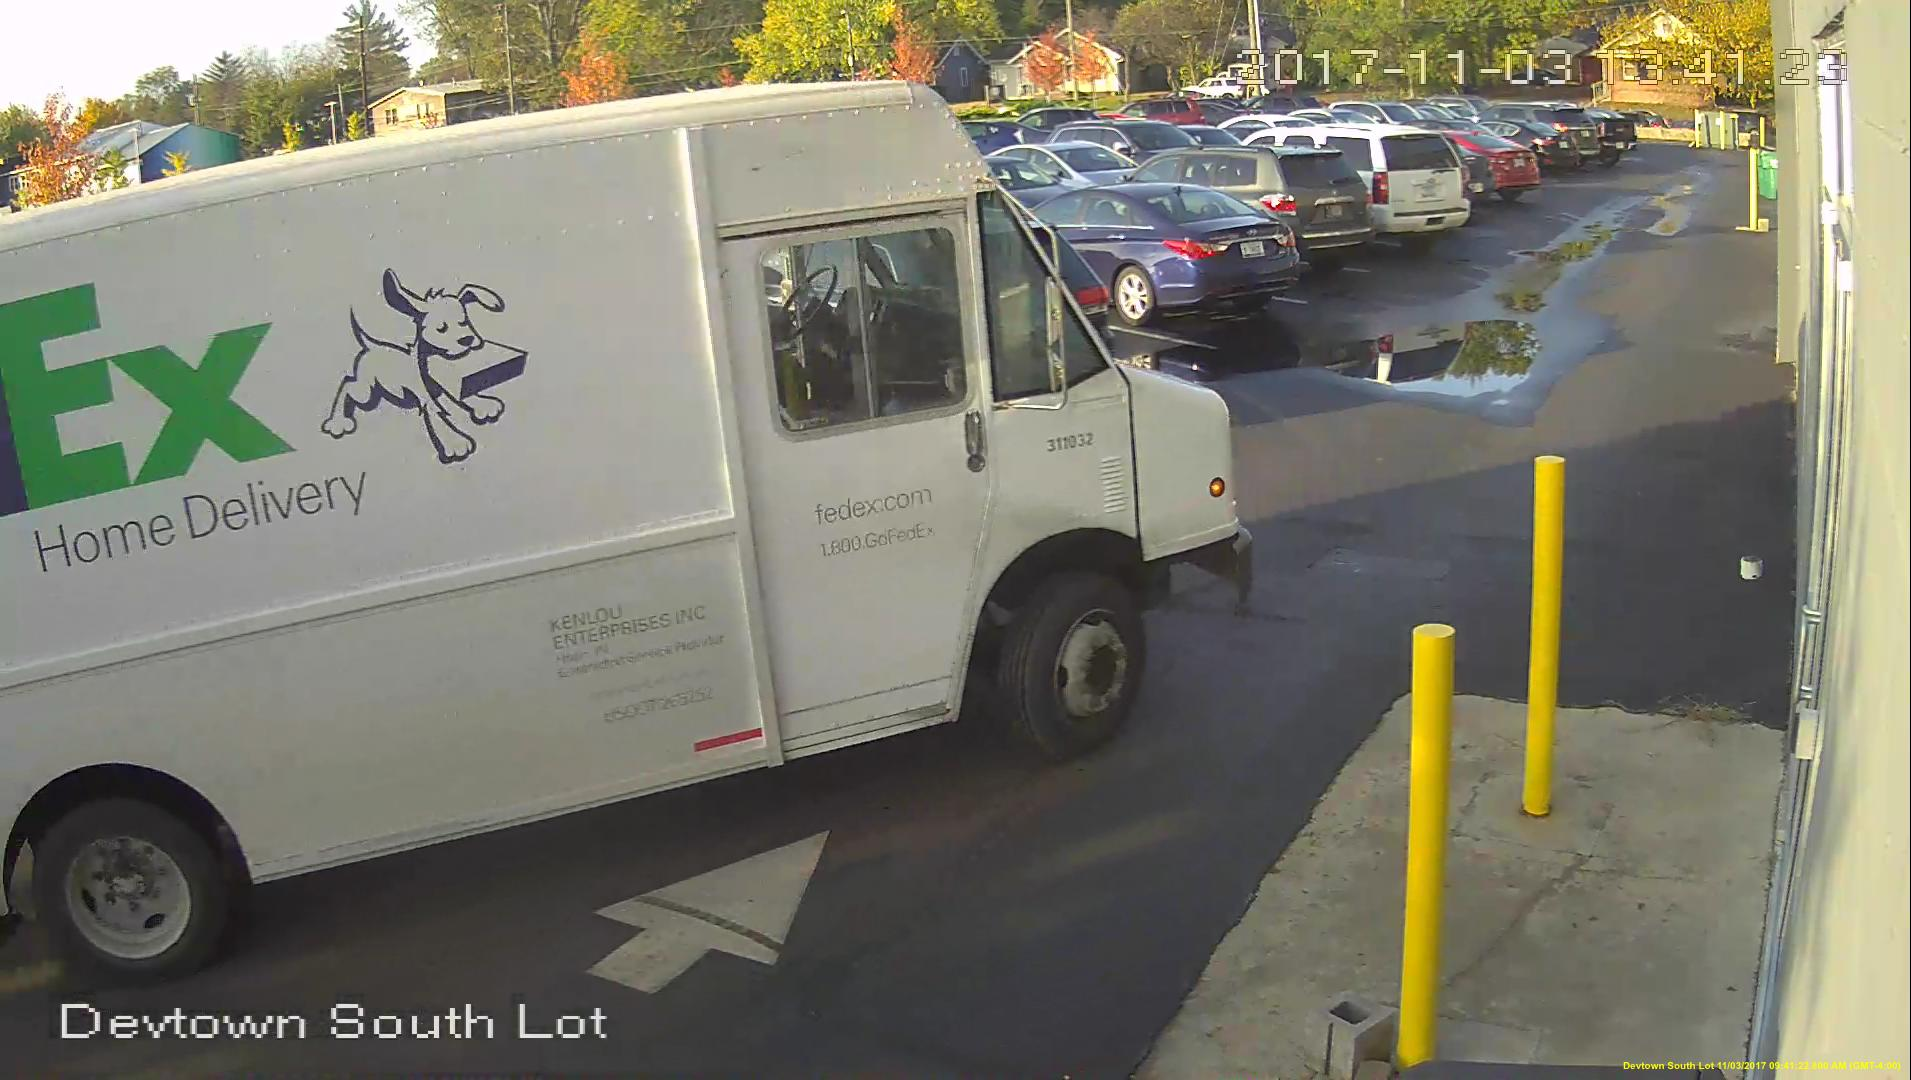fedex_truck: (3, 84, 1256, 972)
